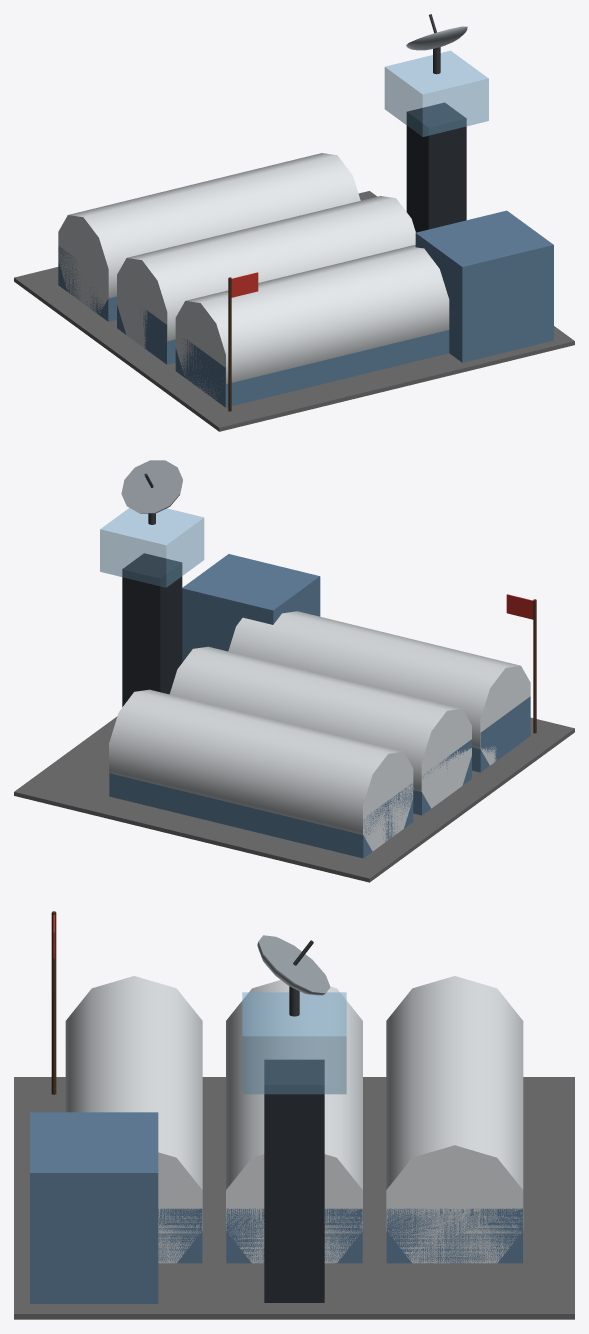
Rendered from bld_special_barracks_a09.glb.
3 views of the same model, one above another, from view 1: azimuth 30°, elevation 25°; view 2: azimuth 150°, elevation 25°; view 3: azimuth 270°, elevation 25° (orthographic). The views are drawn at different scales.
Visible parts, largest first — view 1: body, antenna; view 2: body, antenna; view 3: body, antenna.
Part boxes in pixels (x1,y1,x2,y2): body: (14, 50, 574, 431); antenna: (406, 14, 467, 74); body: (14, 508, 574, 882); antenna: (121, 460, 182, 524); body: (14, 911, 574, 1319); antenna: (257, 935, 330, 1016).
Size of what is drawn, in the model's own units: 14 by 9.99 by 14.
